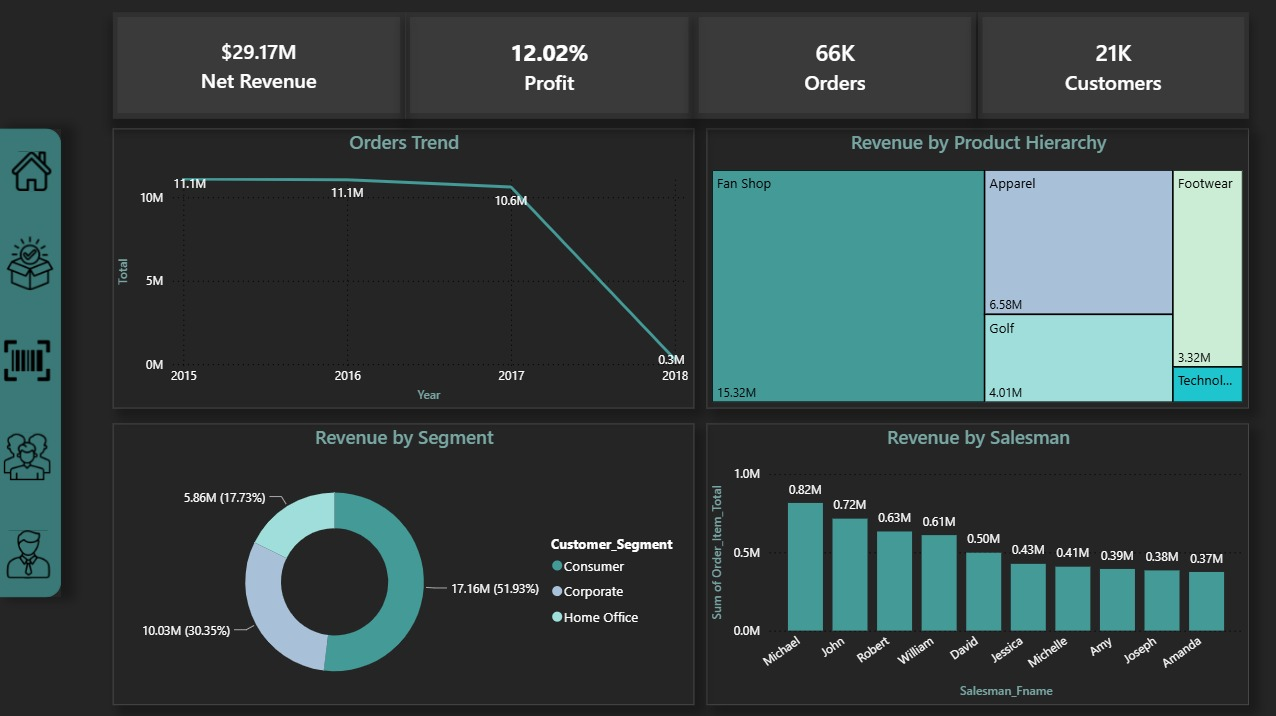

The dashboard page shown, as its layout file describes it:
{"tool":"powerbi","page":{"name":"Overview","canvas":[1280,720],"ordinal":0},"visuals":[{"type":"cardVisual","fields":{"Data":["_Measures.Net Revenue"]},"box":[114,15.9,292.9,106.8],"z":0},{"type":"shape","box":[0,132.7,62,468.9],"z":0,"group":"g1"},{"type":"lineChart","title":"Orders Trend","fields":{"Y":["Sum(Gold FactOrders.Order_Item_Total)"],"Category":["Gold FactOrders.order_year","Gold FactOrders.order_month"]},"box":[114,132.7,581.4,279.9],"z":1000},{"type":"actionButton","box":[8.7,147.1,47.6,56.3],"z":1000,"group":"g1"},{"type":"cardVisual","fields":{"Data":["_Measures.Profit"]},"box":[406.9,15.9,288.6,106.8],"z":2000},{"type":"actionButton","box":[0,235.5,62,64.9],"z":2000,"group":"g1"},{"type":"actionButton","box":[0,332.5,56.3,64.9],"z":3000,"group":"g1"},{"type":"columnChart","title":"Revenue by Salesman","fields":{"Y":["Sum(Gold FactOrders.Order_Item_Total)"],"Category":["Gold DimSalesman.Salesman_Fname"]},"box":[707,427.1,542.5,281.3],"z":3000},{"type":"treemap","title":"Revenue by Product Hierarchy","fields":{"Group":["Gold DimProducts.Department_Name","Gold DimProducts.Category_Name","Gold DimProducts.Product_Name"],"Values":["Sum(Gold FactOrders.Order_Item_Total)"]},"box":[707,132.7,542.5,279.9],"z":4000},{"type":"actionButton","box":[0,429.5,56.3,64.9],"z":4000,"group":"g1"},{"type":"cardVisual","fields":{"Data":["Gold DimCustomers.Orders"]},"box":[695.4,15.9,282.8,106.8],"z":5000},{"type":"actionButton","box":[1.4,526.6,56.3,64.9],"z":5000,"group":"g1"},{"type":"cardVisual","fields":{"Data":["_Measures.Customers"]},"box":[978.2,15.9,271.2,106.8],"z":6000},{"type":"donutChart","title":"Revenue by Segment","fields":{"Category":["Gold DimCustomers.Customer_Segment"],"Y":["Sum(Gold FactOrders.Order_Item_Total)"]},"box":[114,427.1,581.4,281.3],"z":7000},{"type":"group","id":"g1","title":"Group 1","box":[0,132.7,62,468.9],"z":8000}]}

Visuals, with their boxes on the page's 1280x720 design canvas (x1, y1, x2, y2). These are canvas units, not pixel positions in the 1276x716 screenshot, which may show the page scaled, cropped or inside an application window:
cardVisual - _Measures.Net Revenue: 114, 16, 407, 123
shape: 0, 133, 62, 602
"Orders Trend" lineChart: 114, 133, 695, 413
actionButton: 9, 147, 56, 203
cardVisual - _Measures.Profit: 407, 16, 696, 123
actionButton: 0, 236, 62, 300
actionButton: 0, 332, 56, 397
"Revenue by Salesman" columnChart: 707, 427, 1250, 708
"Revenue by Product Hierarchy" treemap: 707, 133, 1250, 413
actionButton: 0, 430, 56, 494
cardVisual - Gold DimCustomers.Orders: 695, 16, 978, 123
actionButton: 1, 527, 58, 592
cardVisual - _Measures.Customers: 978, 16, 1249, 123
"Revenue by Segment" donutChart: 114, 427, 695, 708
"Group 1" group: 0, 133, 62, 602
